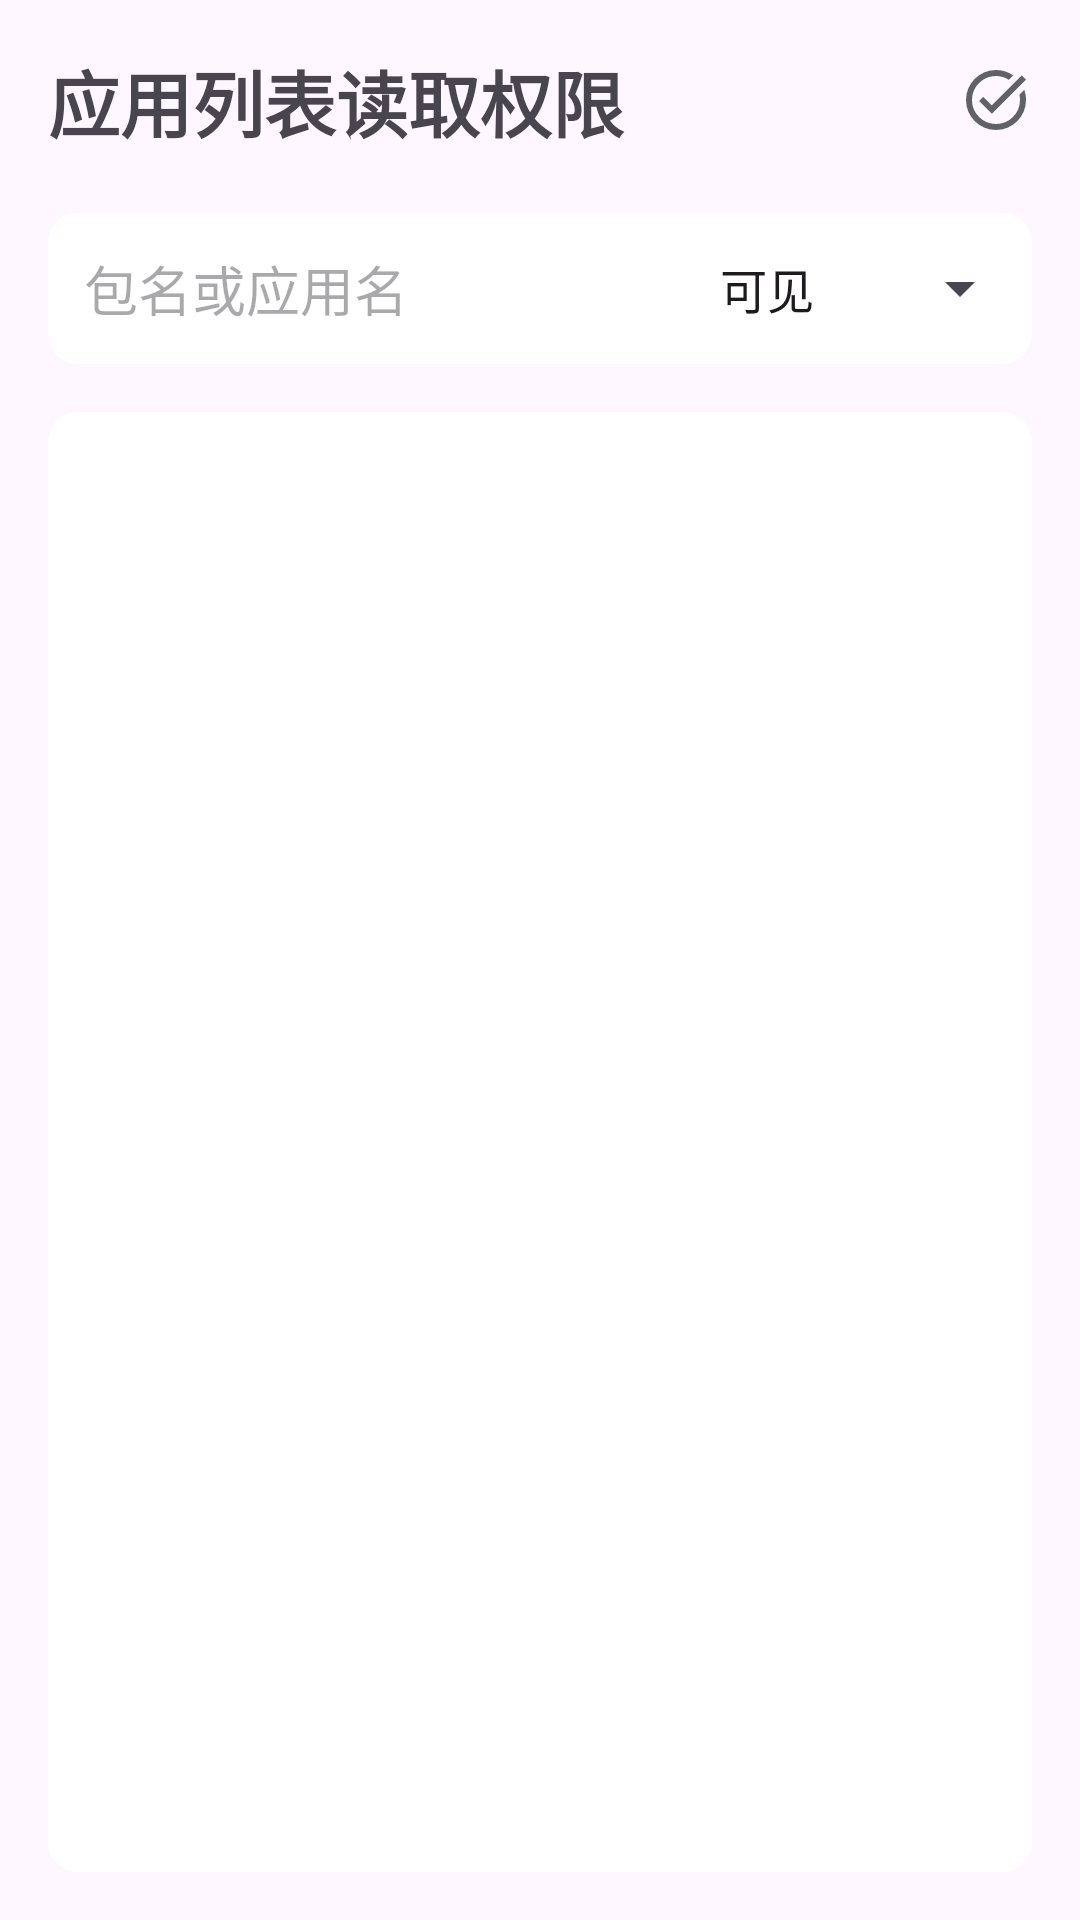

Icon bounding boxes for this 1080px x 1920px phone screenshot, format (x1, y1, x2, y2):
status: (966, 70, 1026, 130)
